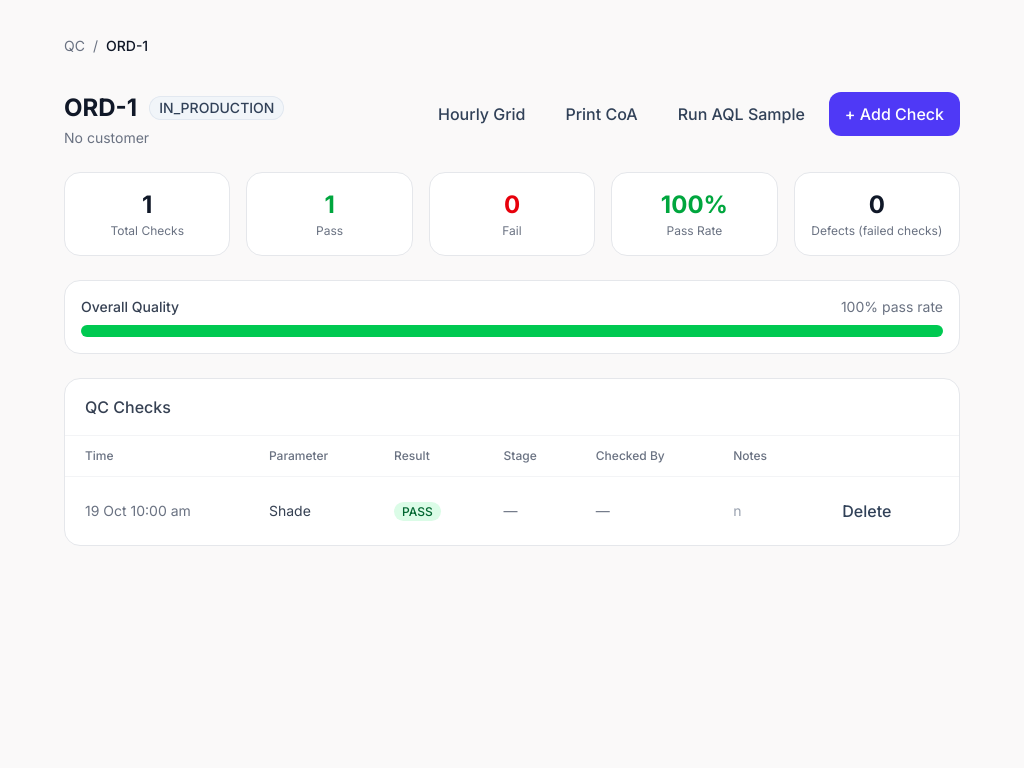
Test: R2-34 QC corrections › Delete appears only when the server says so; it needs a reason and shows a refusal inline
Click the button "Delete".
click(867, 511)  # box 826,489 -> 907,533
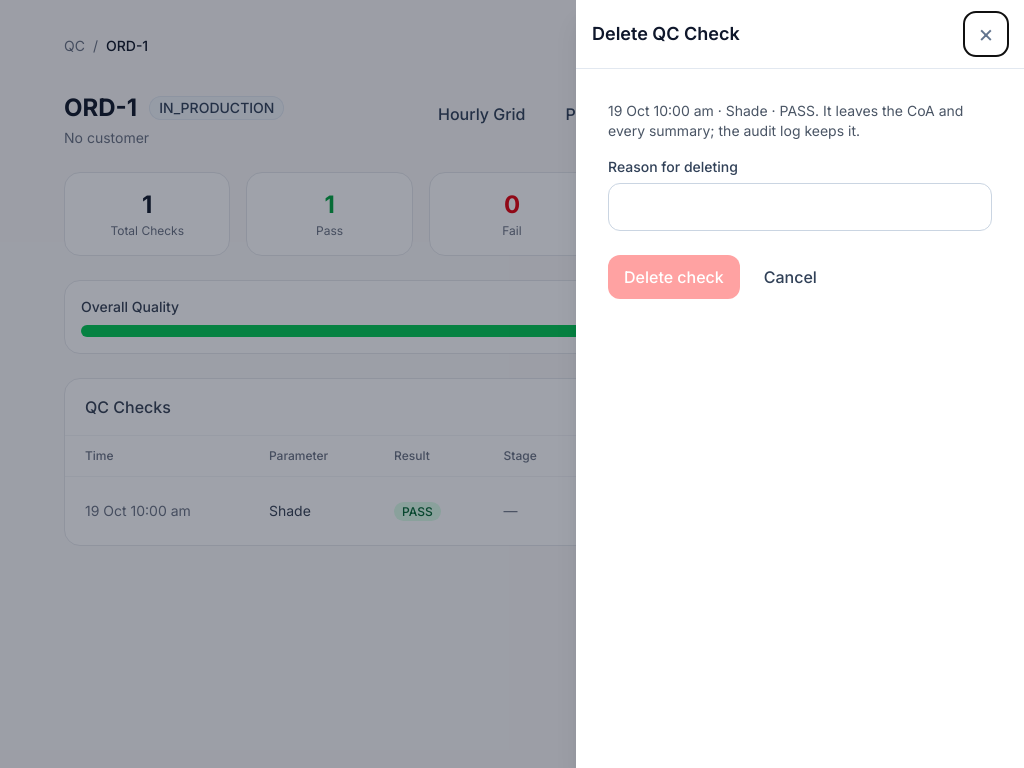
Now the button "Delete check" is disabled, box 608,255 -> 740,299
Type "wrong order" into the field labelled "Reason for deleting".
click(800, 207); type("wrong order")  # box 608,183 -> 992,231
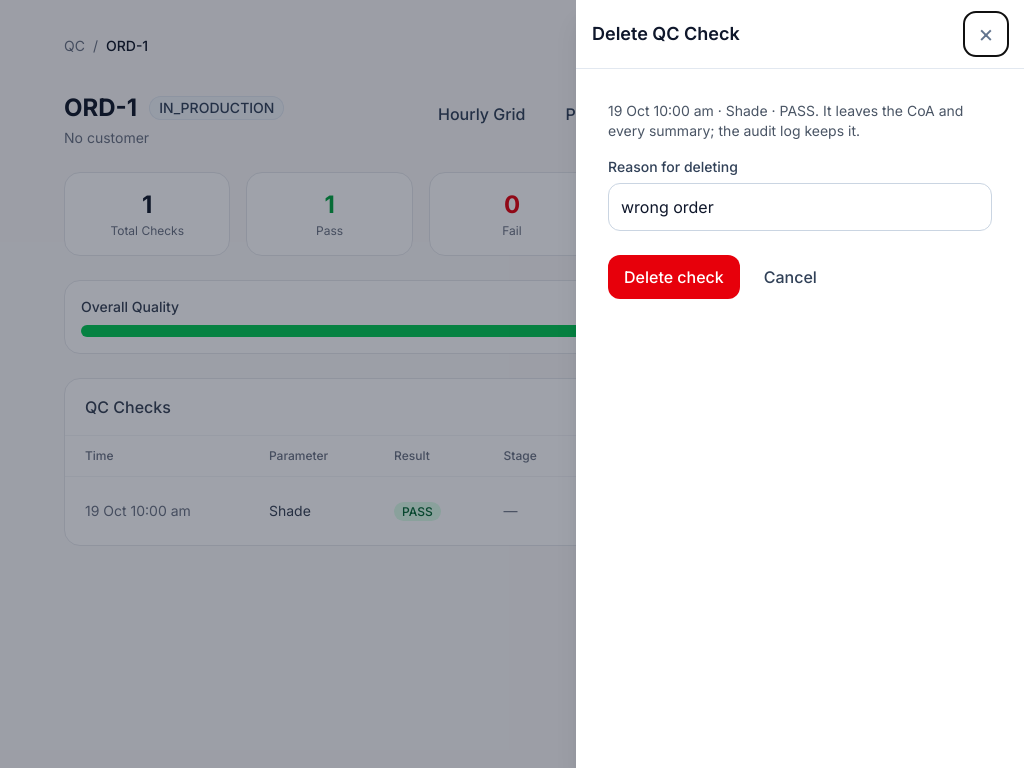
Click the button "Delete check".
click(674, 277)  # box 608,255 -> 740,299
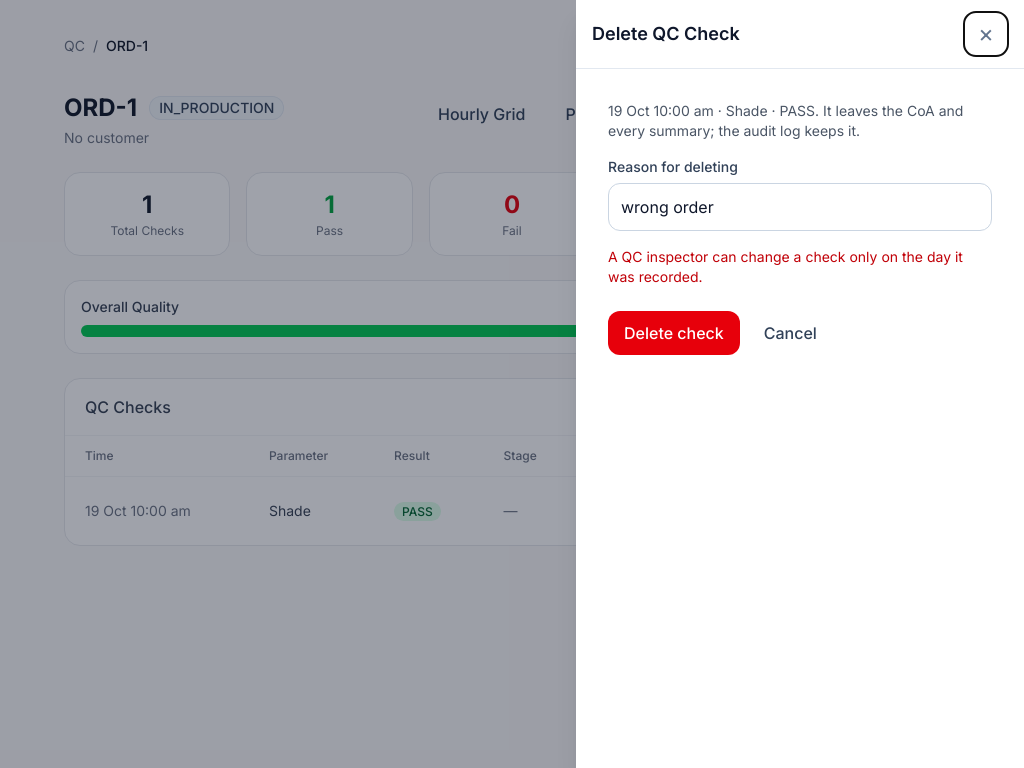
Now the text "A QC inspector can change a check only on the day it was recorded." is shown, box 608,247 -> 992,287
